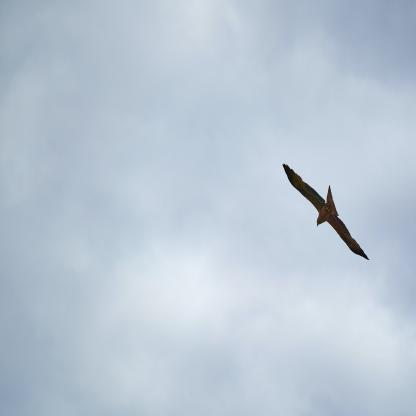bird: (282, 163, 370, 261)
